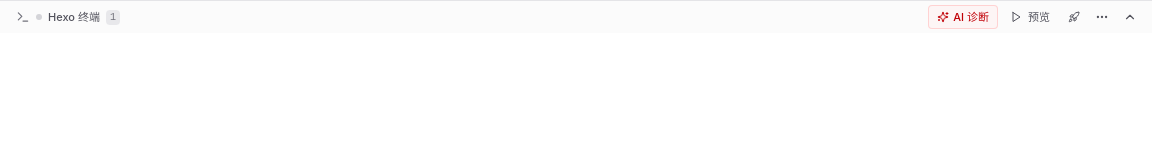
Phase 4B: Line diff, MarkdownEditor range replace, InlineAiPopover & Terminal AI Diagnose › shows AI 诊断 button on HexoTerminalDrawer only when onAiDiagnose is provided and an error occurred
Step 1. Click the button with test id "terminal-ai-diagnose" → (963,17), box [928,5,998,29]
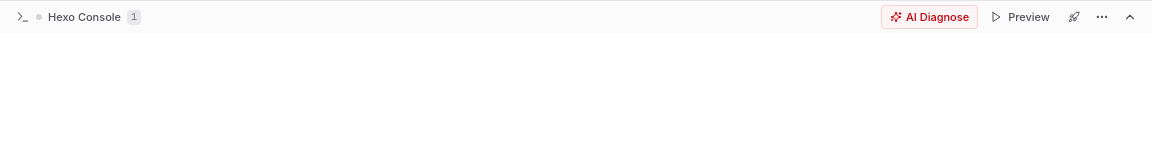
Check: the button with test id "terminal-ai-diagnose" reads "AI Diagnose", box [881,5,978,29]
